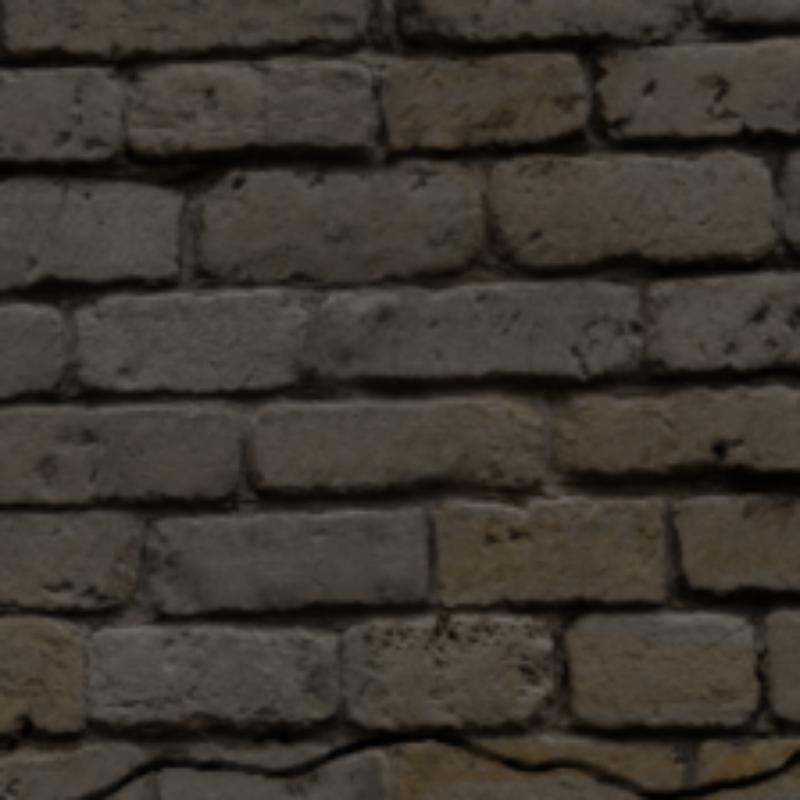pothole: (79, 732, 796, 796)
